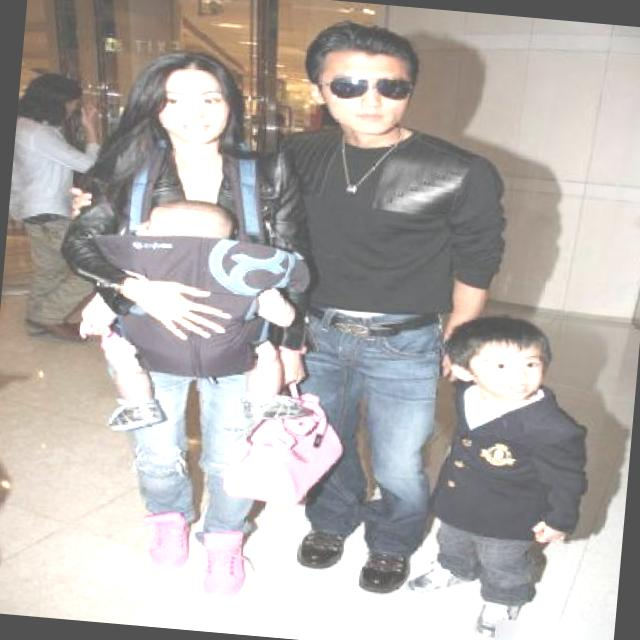Person: (8, 32, 344, 611), (197, 6, 504, 590), (393, 302, 616, 640)
